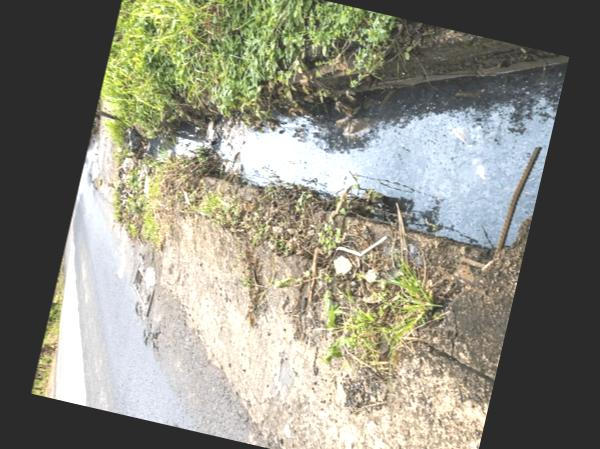Blocked drain: (110, 0, 569, 287)
